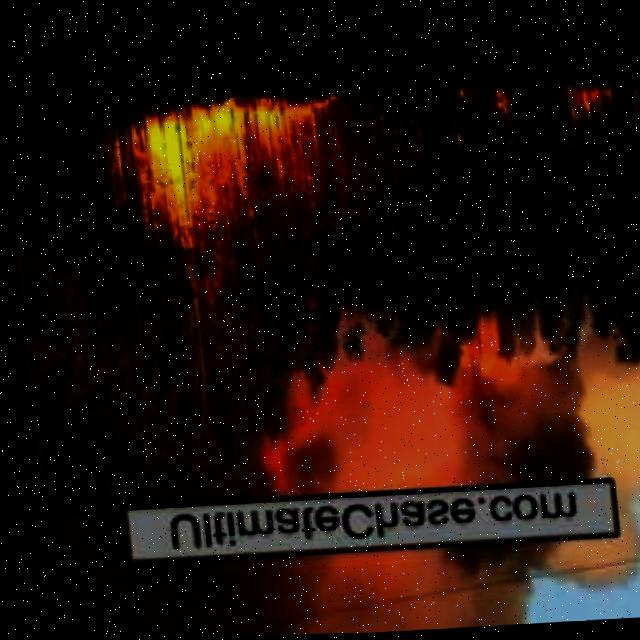Fire: (121, 103, 327, 207), (453, 322, 517, 378), (252, 409, 298, 482), (554, 84, 615, 125), (450, 88, 514, 119)
Smoke: (19, 326, 640, 511), (41, 533, 640, 640)
